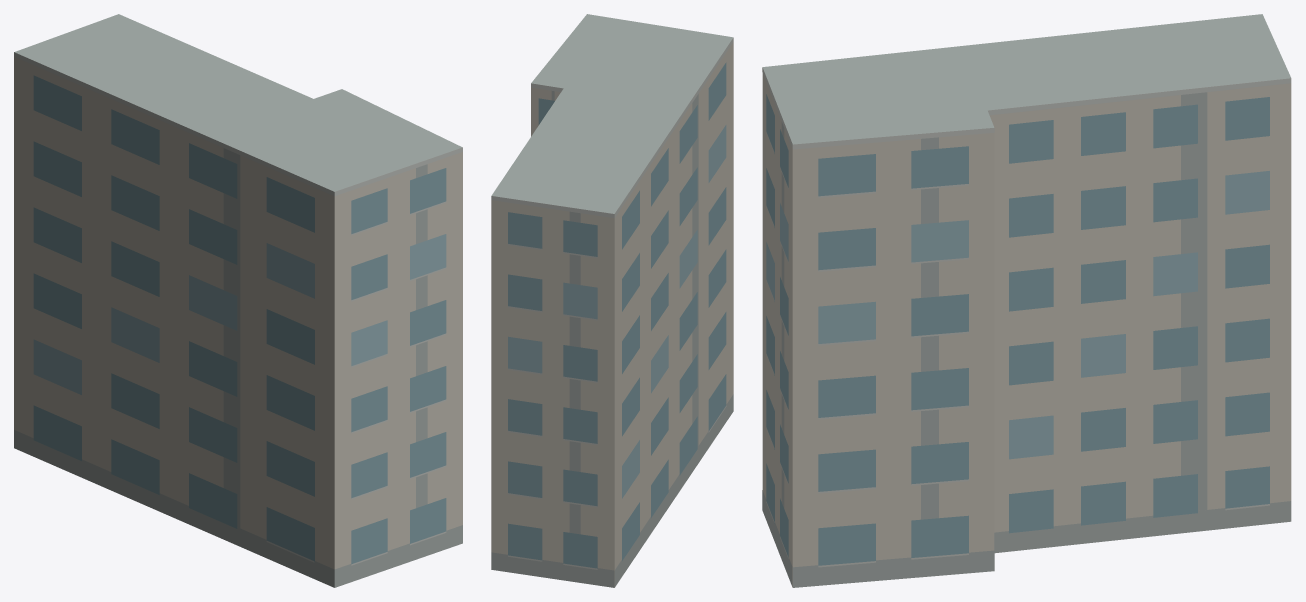
Rendered from survey-upis-32705569.glb.
3 views of the same model, side by side, from view 1: azimuth 30°, elevation 25°; view 2: azimuth 150°, elevation 25°; view 3: azimuth 270°, elevation 25° (orthographic). The views are drawn at different scales.
Visible parts, largest first — view 1: survey-upis-32705569.tmp; view 2: survey-upis-32705569.tmp; view 3: survey-upis-32705569.tmp.
Boxes of the visible parts, box(x1,y1,x2,y2) form: survey-upis-32705569.tmp: box(14, 14, 462, 587); survey-upis-32705569.tmp: box(491, 14, 733, 587); survey-upis-32705569.tmp: box(762, 14, 1291, 587).
Size of the model in its own units: 13.65 by 21.6 by 23.36.
